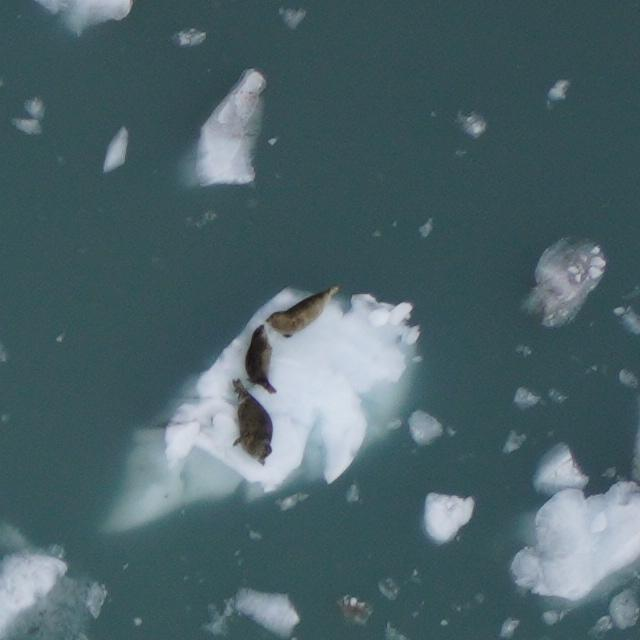seal: (262, 282, 347, 342), (228, 374, 275, 469), (241, 320, 282, 398)
